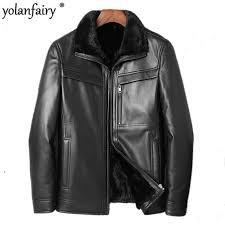jacket: (23, 2, 207, 219)
